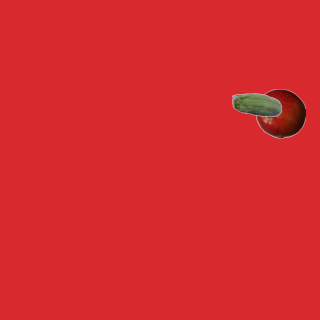Apple Braeburn: (255, 88, 305, 138)
Corn Husk: (231, 81, 281, 131)
